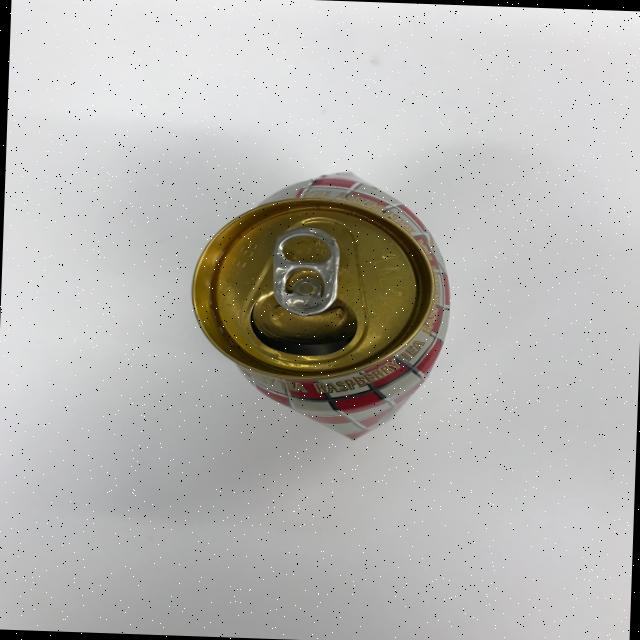metal: (185, 165, 456, 443)
